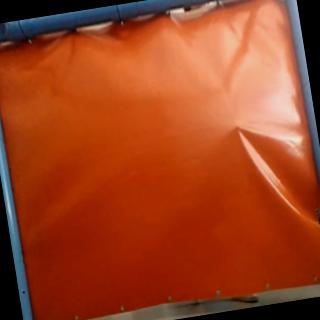Hit-hRxx: (231, 121, 246, 134)
